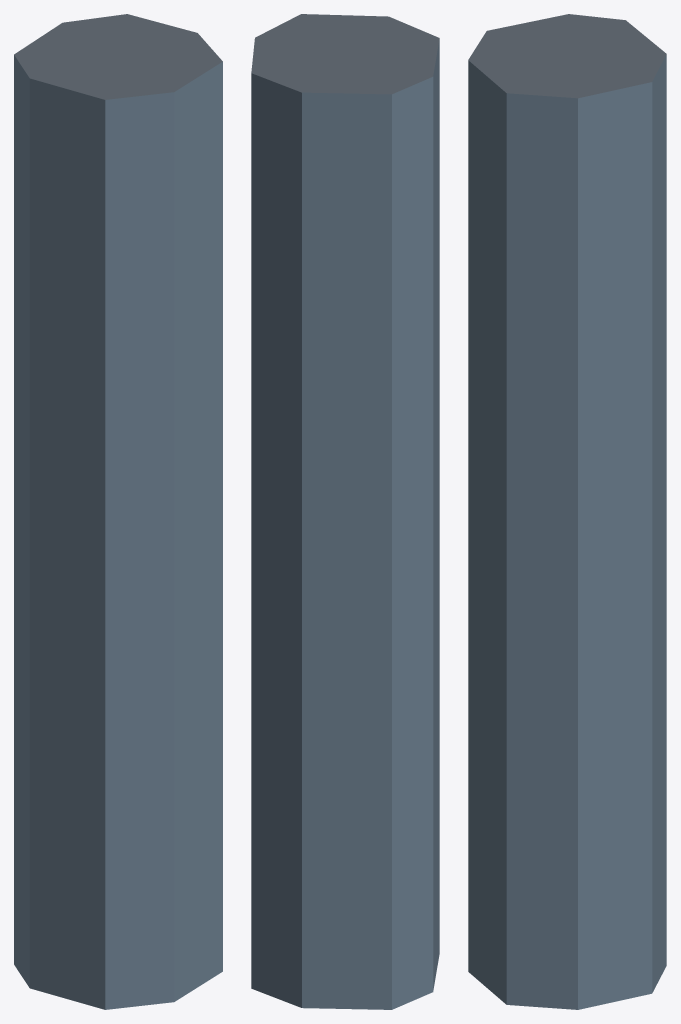
3 views of the same model, side by side, from view 1: azimuth 30°, elevation 25°; view 2: azimuth 150°, elevation 25°; view 3: azimuth 270°, elevation 25° (orthographic).
Parts seen in each view (by area): view 1: HP-w292718772; view 2: HP-w292718772; view 3: HP-w292718772.
Boxes of the visible parts, <box> form: HP-w292718772: <box>14,14,222,1009</box>; HP-w292718772: <box>251,14,439,1009</box>; HP-w292718772: <box>468,14,666,1009</box>.
Bounding box in the file's own units: 30.16 × 152 × 30.01.
